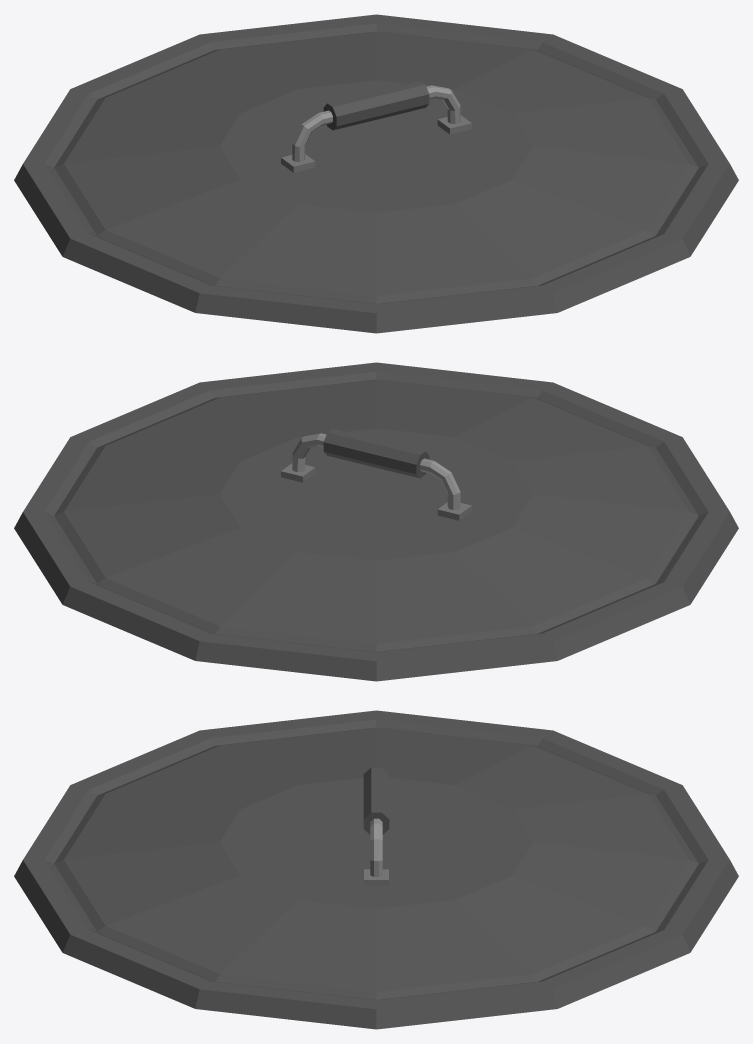
File: PanPart_01_C2.fbx
3 renders of one model, top to bottom at view 1: azimuth 30°, elevation 25°; view 2: azimuth 150°, elevation 25°; view 3: azimuth 270°, elevation 25°, orthographic.
Parts seen in each view (by area): view 1: PanPart_01_C2; view 2: PanPart_01_C2; view 3: PanPart_01_C2.
Boxes of the visible parts, x1,y1,x2,y2 form: PanPart_01_C2: (14, 14, 738, 333); PanPart_01_C2: (14, 362, 738, 681); PanPart_01_C2: (14, 710, 738, 1029).
Bounding box in the file's own units: 27.92 × 3.67 × 27.92.
